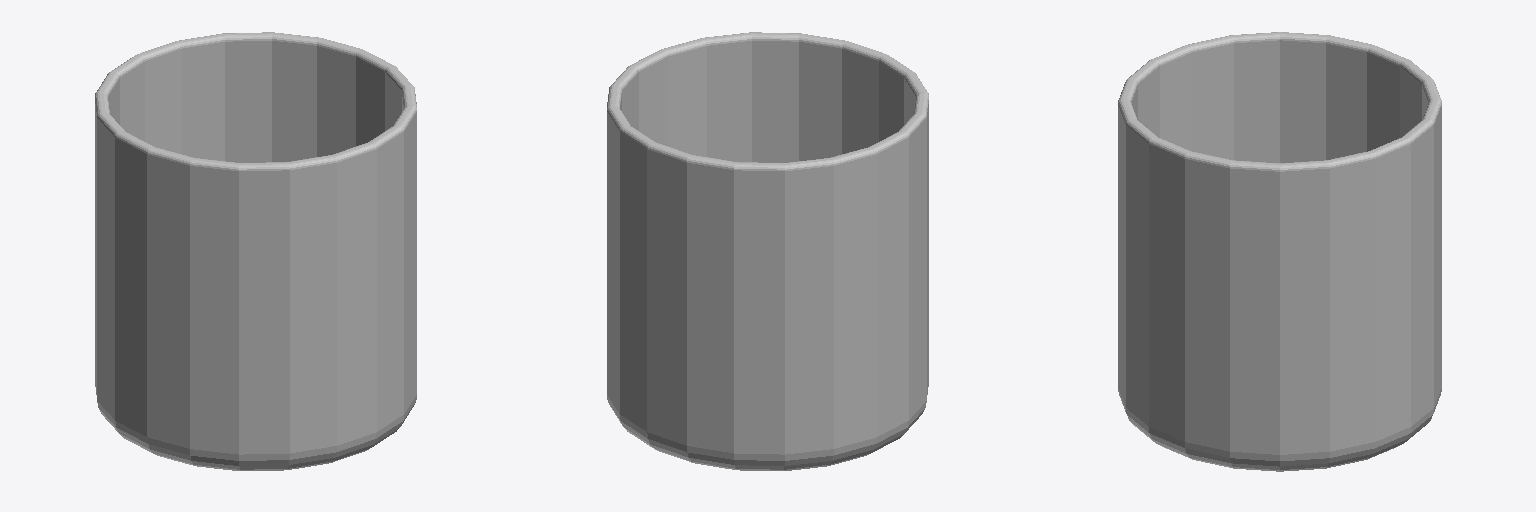
Rendered from Glass.obj.
3 renders of one model, left to right at view 1: azimuth 30°, elevation 25°; view 2: azimuth 150°, elevation 25°; view 3: azimuth 270°, elevation 25°, orthographic.
Parts seen in each view (by area): view 1: Low_Poly_Glas; view 2: Low_Poly_Glas; view 3: Low_Poly_Glas.
Part boxes in pixels (x1,y1,x2,y2): Low_Poly_Glas: (95,32,416,470); Low_Poly_Glas: (607,32,928,470); Low_Poly_Glas: (1118,32,1441,471).
Bounding box in the file's own units: 14.58 × 15.56 × 14.58.